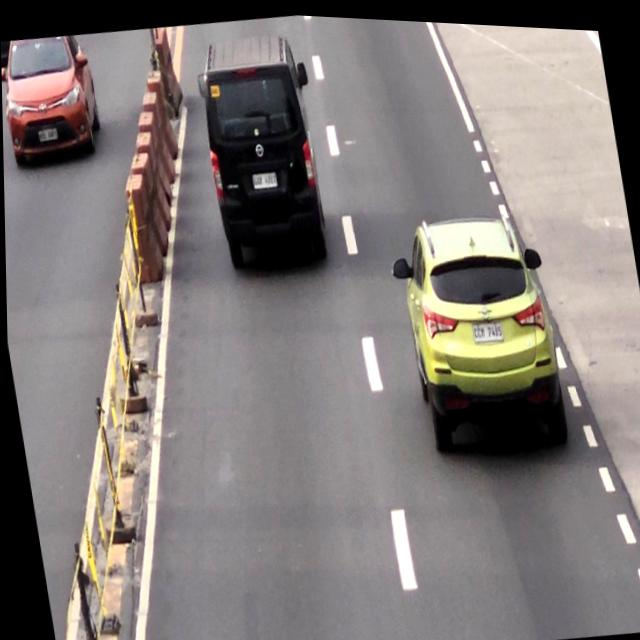Car: (398, 203, 561, 450), (193, 22, 324, 258)
License-Plate: (469, 312, 506, 344), (251, 165, 278, 187)
